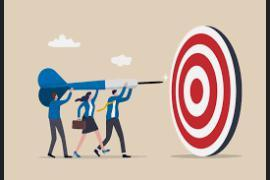target_red: (168, 24, 242, 157)
